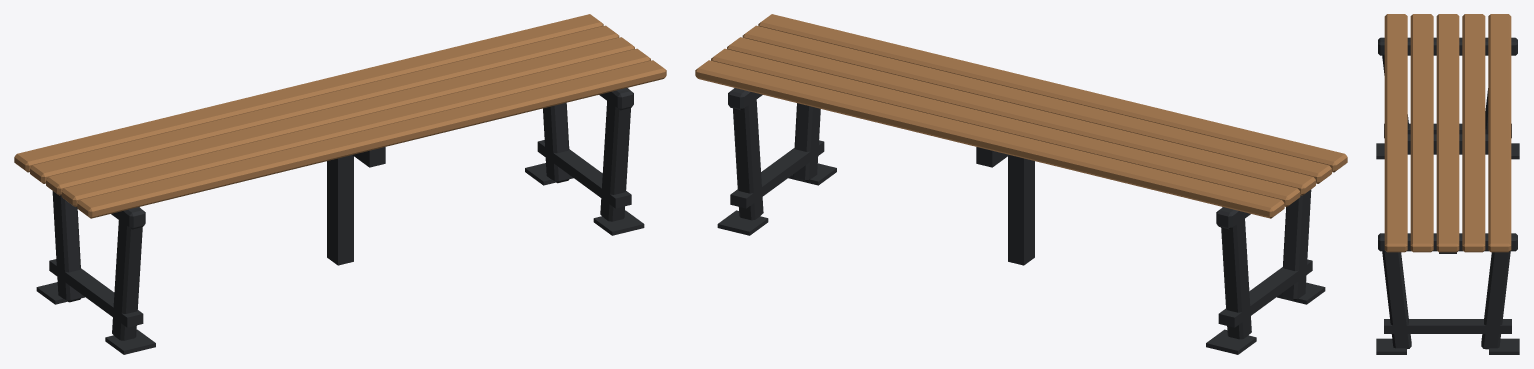
The model's file is SC_Str_Bench_Backless.gltf.
3 views of the same model, side by side, from view 1: azimuth 30°, elevation 25°; view 2: azimuth 150°, elevation 25°; view 3: azimuth 270°, elevation 25° (orthographic). The views are drawn at different scales.
Visible parts, largest first — view 1: SC_Str_Bench_Backless; view 2: SC_Str_Bench_Backless; view 3: SC_Str_Bench_Backless.
Boxes of the visible parts, x1,y1,x2,y2 form: SC_Str_Bench_Backless: (14, 14, 666, 354); SC_Str_Bench_Backless: (695, 14, 1347, 354); SC_Str_Bench_Backless: (1376, 14, 1519, 354).
Bounding box in the file's own units: 1.8 × 0.442 × 0.47.
1 material, 1 textured.
